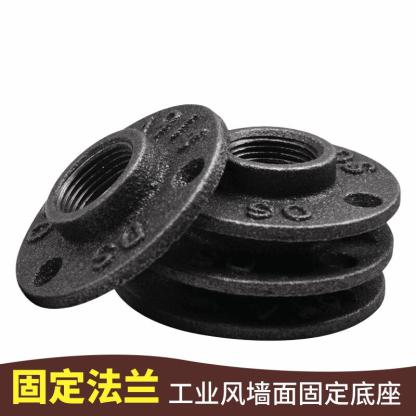FOD: (6, 94, 229, 319), (157, 120, 403, 240)
